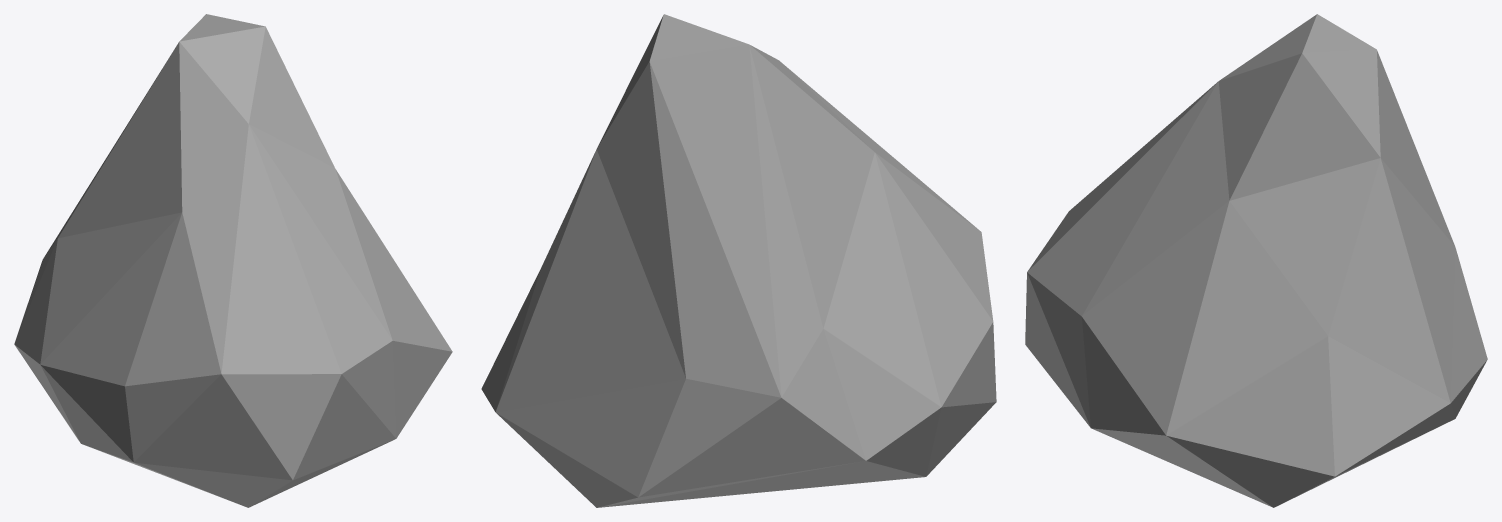
The model's file is rock5.fbx.
3 renders of one model, left to right at view 1: azimuth 30°, elevation 25°; view 2: azimuth 150°, elevation 25°; view 3: azimuth 270°, elevation 25°, orthographic. The views are drawn at different scales.
Visible parts, largest first — view 1: rock5; view 2: rock5; view 3: rock5.
Boxes of the visible parts, box(x1,y1,x2,y2) form: rock5: box(14, 14, 452, 507); rock5: box(481, 14, 996, 507); rock5: box(1025, 14, 1487, 507).
Size of the model in its own units: 88.25 by 90.33 by 92.13.
